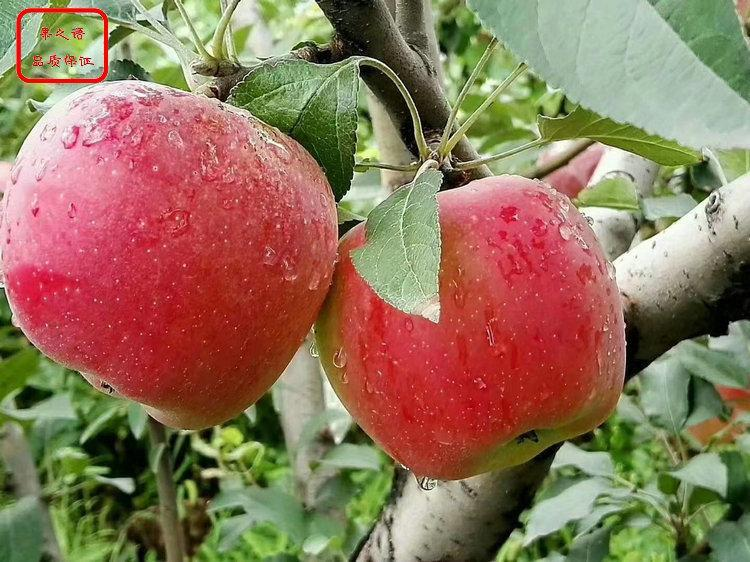apple: (2, 84, 341, 428), (317, 164, 624, 481)
